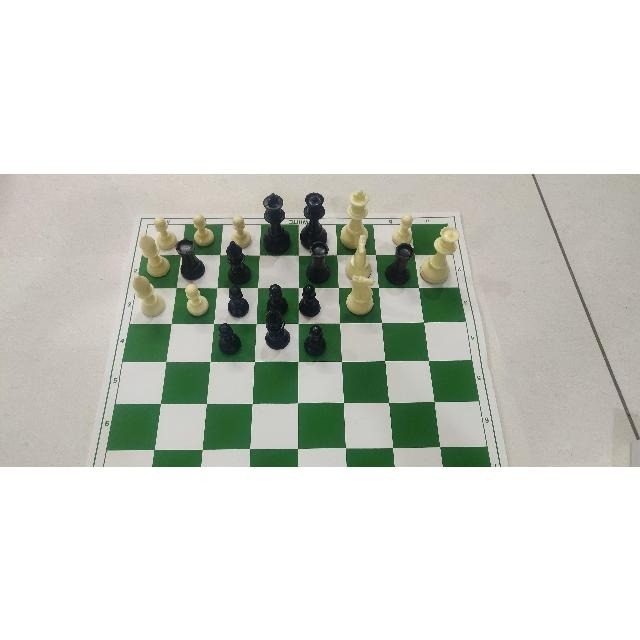black-bishop: (219, 240, 254, 282), (261, 308, 293, 349)
black-king: (259, 189, 290, 253)
black-pawn: (300, 324, 332, 358), (215, 319, 246, 354), (222, 282, 250, 318), (298, 281, 323, 315), (266, 282, 294, 308)
black-queen: (301, 189, 329, 239)
black-rook: (172, 240, 212, 280), (386, 242, 418, 282), (306, 239, 332, 281)
white-bishop: (133, 230, 169, 276), (131, 271, 163, 315)
white-king: (342, 185, 370, 241)
white-knight: (344, 276, 377, 316), (347, 230, 375, 274)
white-pawn: (179, 282, 210, 316), (191, 210, 217, 244), (391, 214, 416, 240), (231, 212, 253, 240), (153, 212, 173, 238)
white-queen: (419, 224, 461, 283)
